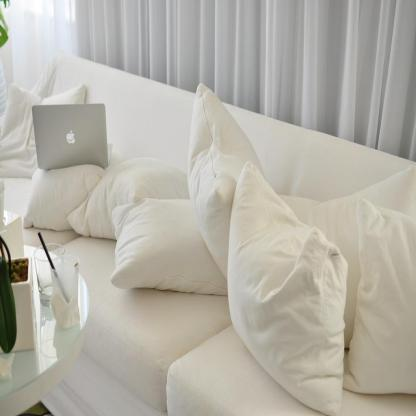board: (31, 103, 112, 169)
